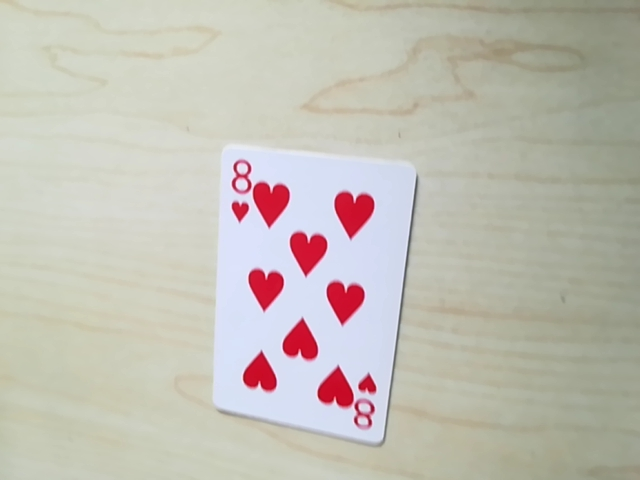hx 8: (337, 379, 383, 437), (225, 152, 265, 205)
